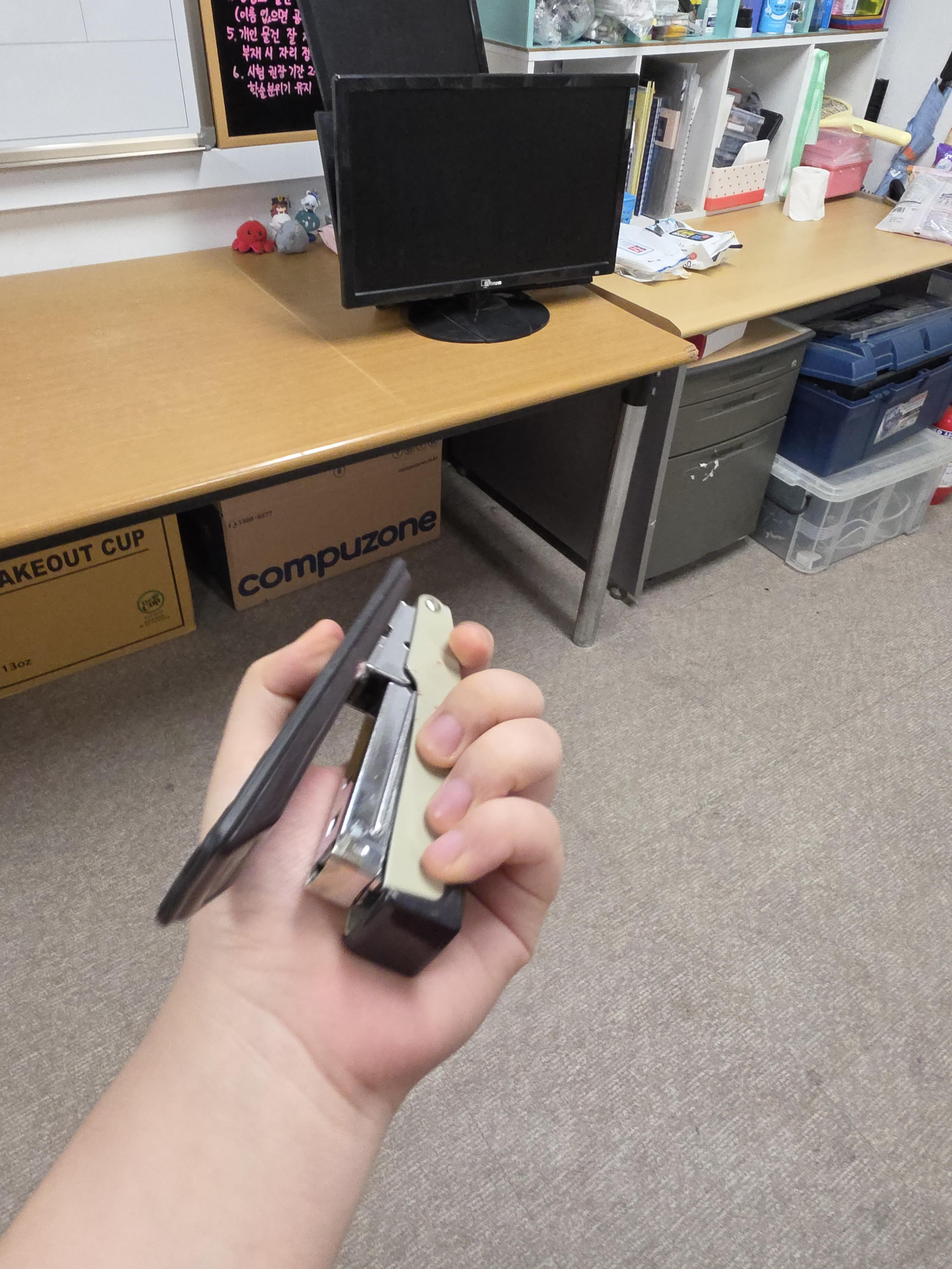stapler: (155, 558, 467, 976)
tissue: (788, 165, 830, 222)
